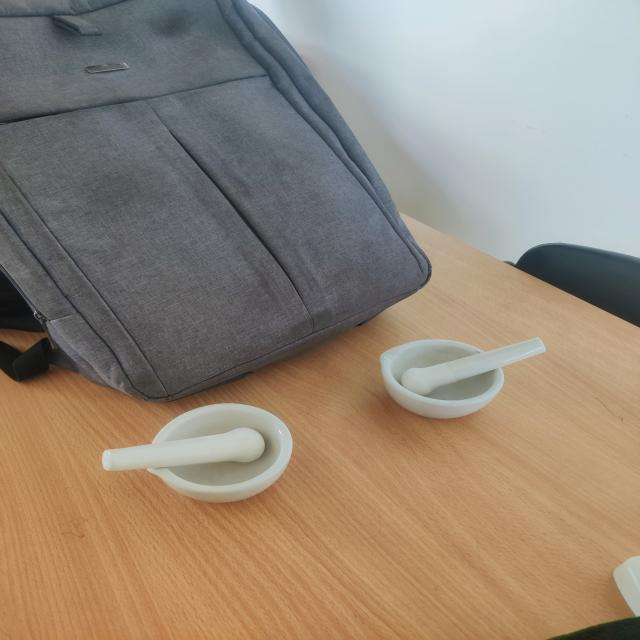Porcelain_Mortar Pestle: (86, 384, 321, 532), (352, 324, 558, 445)
